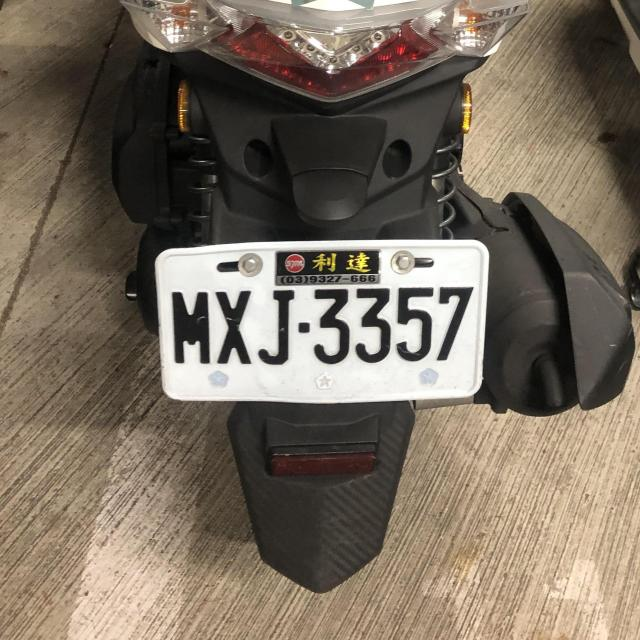W: (150, 234, 493, 410)
